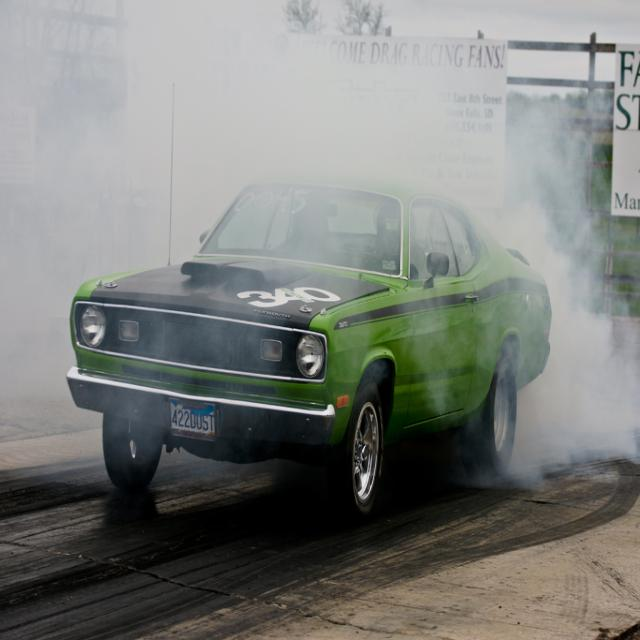car: (63, 165, 555, 523)
